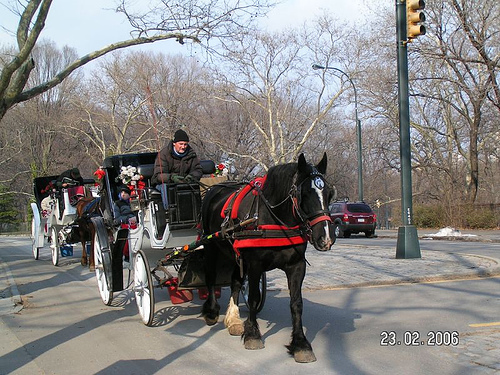horse: (197, 151, 336, 365)
